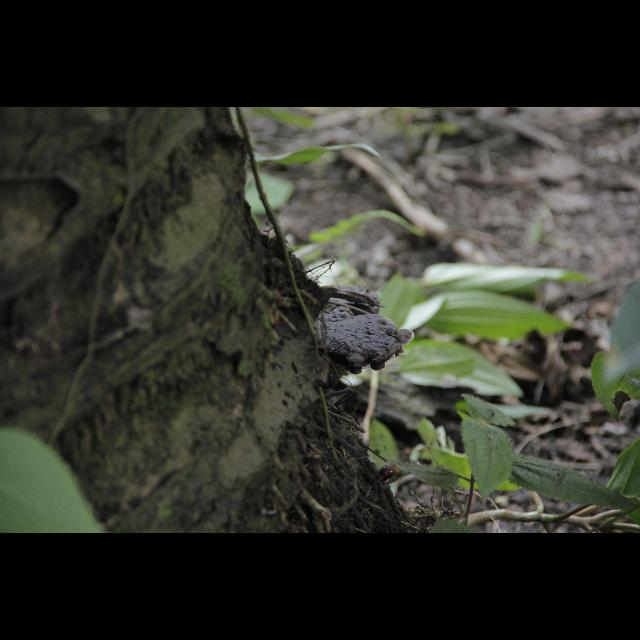ganoderma: (317, 315, 416, 377)
